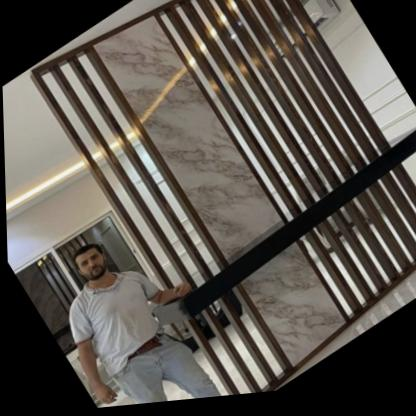Wall Panel: (27, 0, 416, 414)
